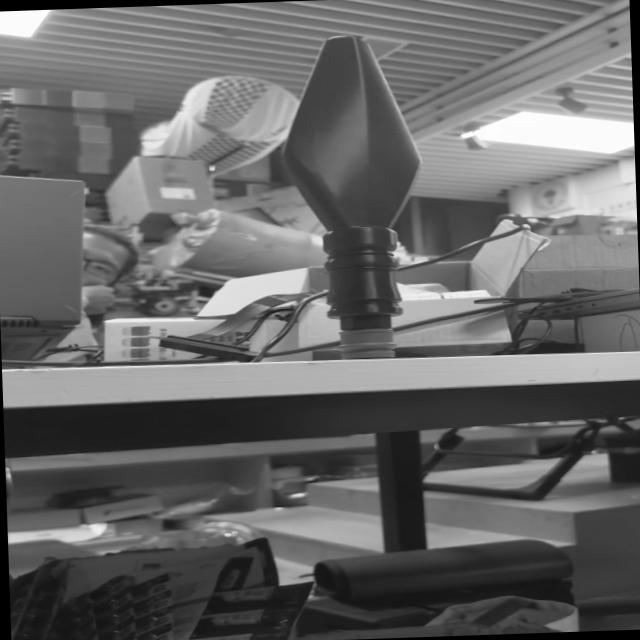base: (338, 326, 391, 354)
